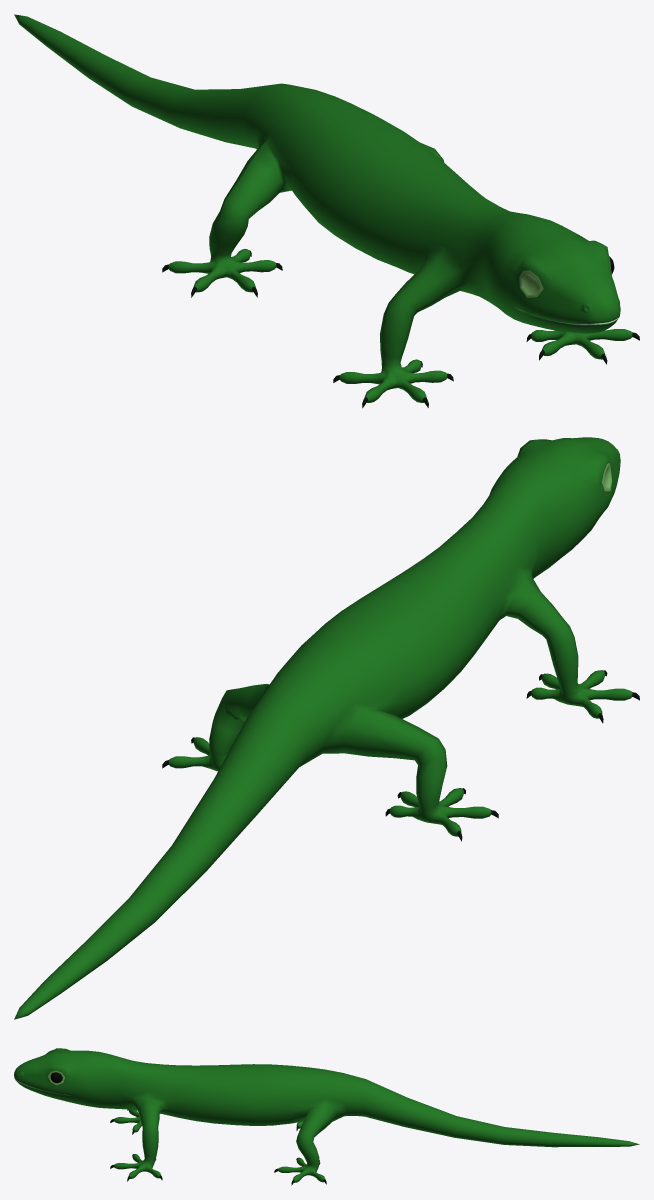
Rendered from lizard.obj.
3 views of the same model, one above another, from view 1: azimuth 30°, elevation 25°; view 2: azimuth 150°, elevation 25°; view 3: azimuth 270°, elevation 25° (orthographic). The views are drawn at different scales.
Parts seen in each view (by area): view 1: lizard; view 2: lizard; view 3: lizard.
Boxes of the visible parts, x1,y1,x2,y2 form: lizard: (14, 14, 639, 408); lizard: (14, 437, 639, 1019); lizard: (14, 1048, 639, 1185).
Bounding box in the file's own units: 0.0606 × 0.0333 × 0.2032.
